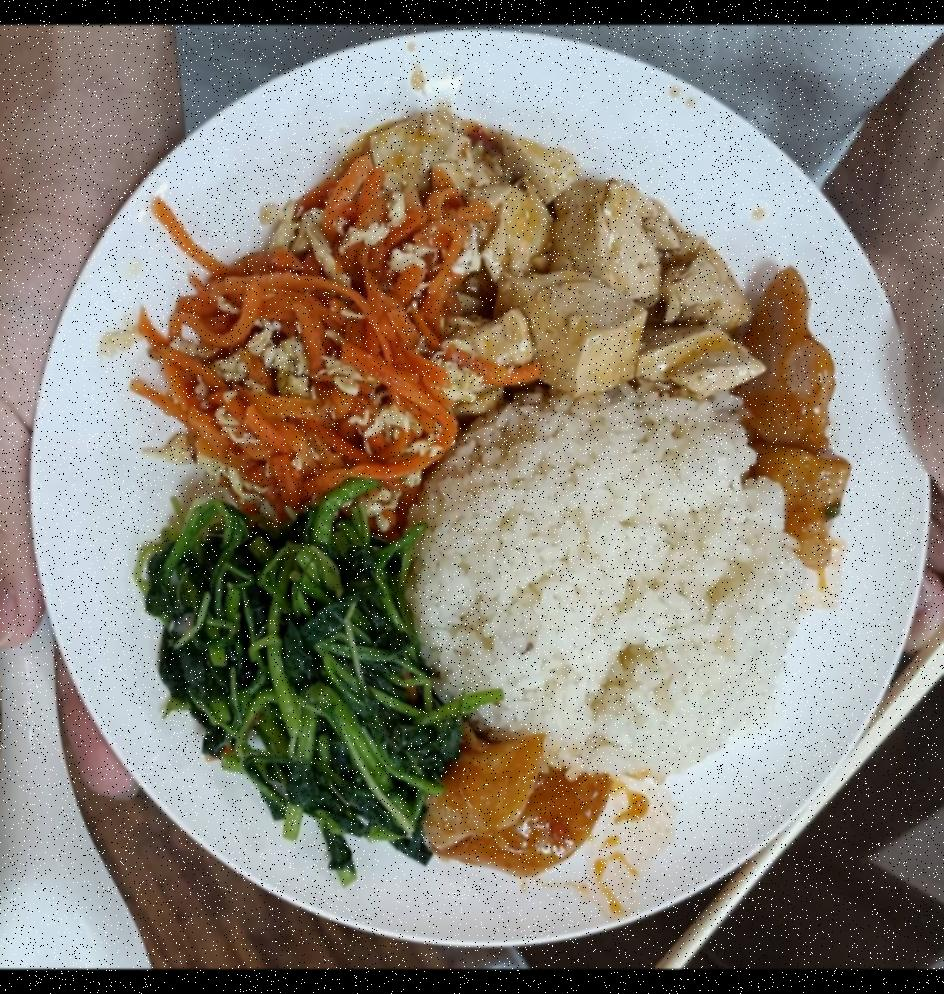plate: (14, 27, 921, 951)
side dish: (152, 479, 444, 851), (158, 204, 512, 464), (452, 114, 751, 398), (746, 268, 854, 582), (429, 742, 618, 878)
white rice: (420, 387, 784, 781)
